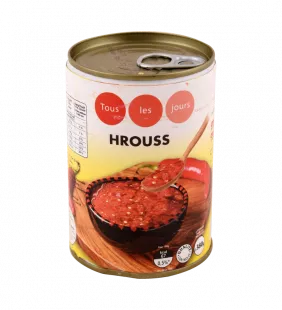TOUS LES JOURS: (59, 20, 228, 284)
